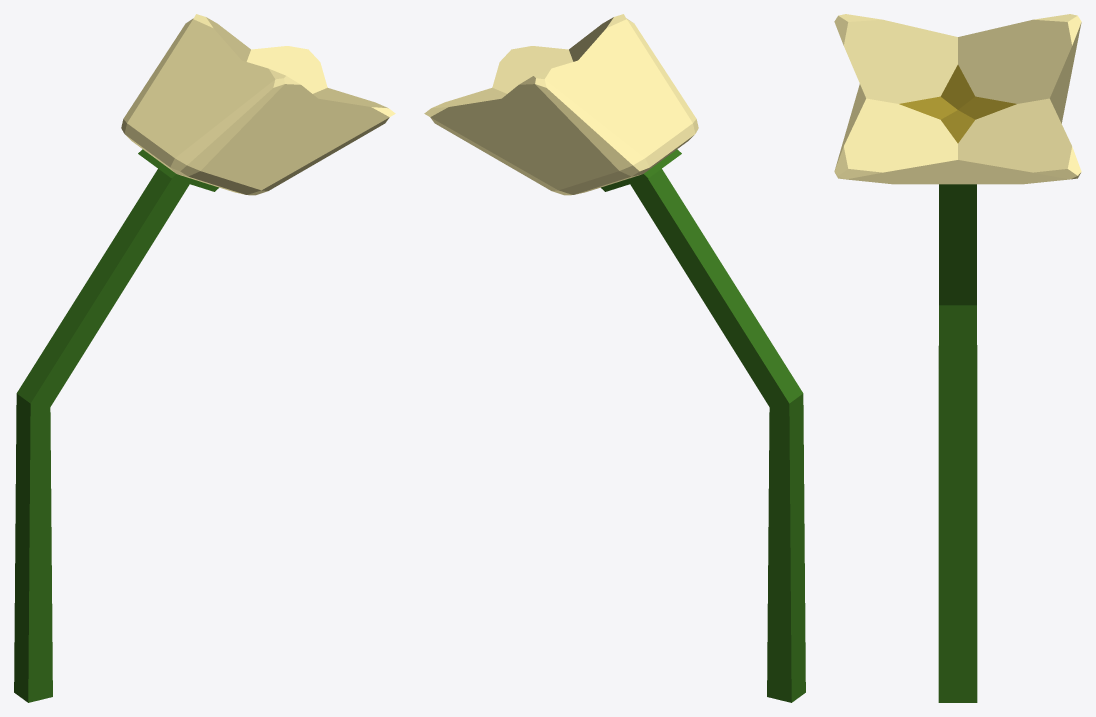
The model's file is Tulip_flower_2.fbx.
The picture shows the model from 3 angles, left to right: view 1: azimuth 30°, elevation 25°; view 2: azimuth 150°, elevation 25°; view 3: azimuth 270°, elevation 25°; orthographic projection. The views are drawn at different scales.
Parts seen in each view (by area): view 1: Tulip_flower_2; view 2: Tulip_flower_2; view 3: Tulip_flower_2.
Part boxes in pixels (x1,y1,x2,y2): Tulip_flower_2: (14, 14, 395, 702); Tulip_flower_2: (424, 14, 805, 702); Tulip_flower_2: (834, 14, 1081, 702).
Bounding box in the file's own units: 13.76 × 23.78 × 6.53.
